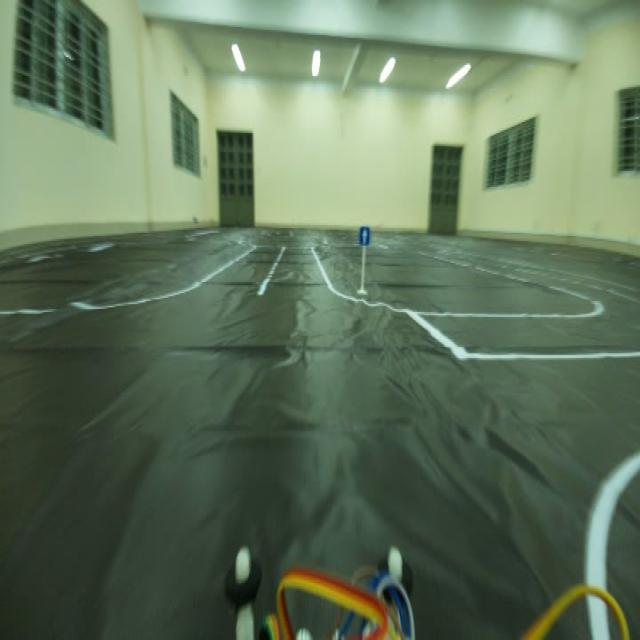onewayroad: (355, 216, 373, 246)
